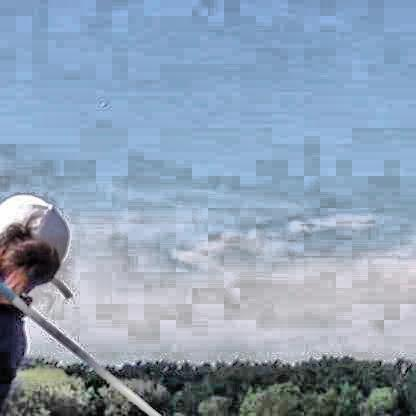golfball: (98, 98, 103, 104)
